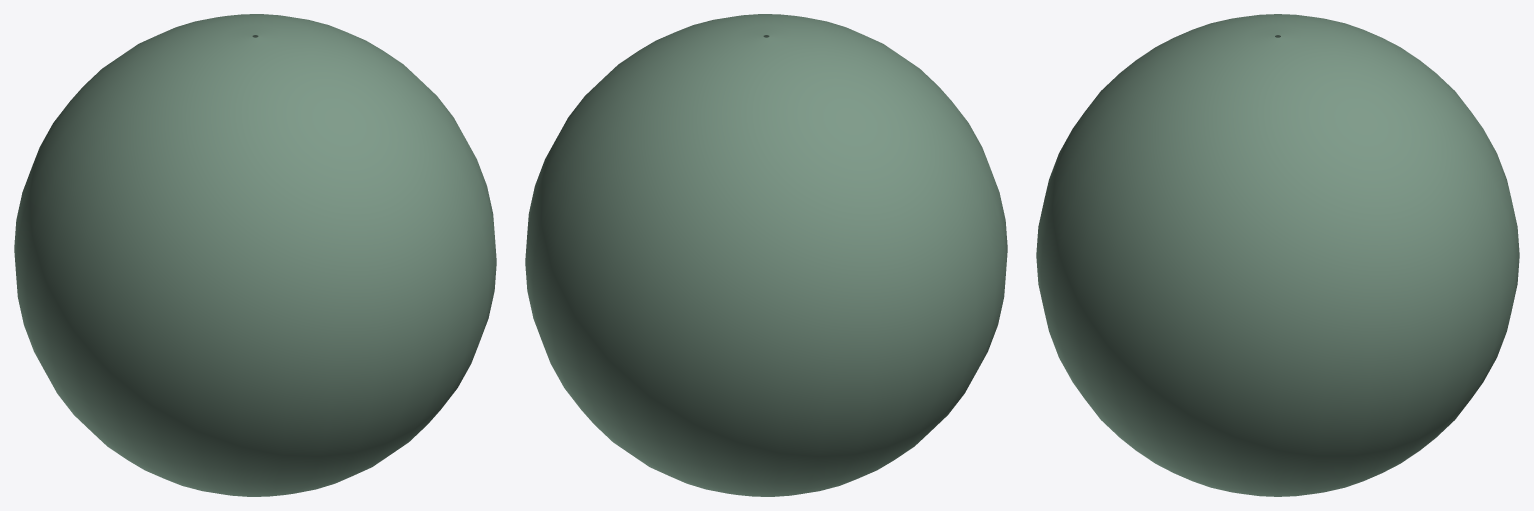
The model's file is sku_v23_melon.glb.
3 renders of one model, left to right at view 1: azimuth 30°, elevation 25°; view 2: azimuth 150°, elevation 25°; view 3: azimuth 270°, elevation 25°, orthographic.
Visible parts, largest first — view 1: sku_v23_melon_V23_soft_sage; view 2: sku_v23_melon_V23_soft_sage; view 3: sku_v23_melon_V23_soft_sage.
Part boxes in pixels (x1=…): sku_v23_melon_V23_soft_sage: x1=14, y1=14, x2=496, y2=496; sku_v23_melon_V23_soft_sage: x1=525, y1=14, x2=1007, y2=496; sku_v23_melon_V23_soft_sage: x1=1036, y1=14, x2=1519, y2=496.
Bounding box in the file's own units: 0.16 × 0.16 × 0.16.
